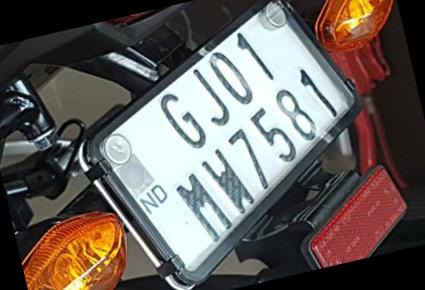plate: (74, 15, 373, 246)
